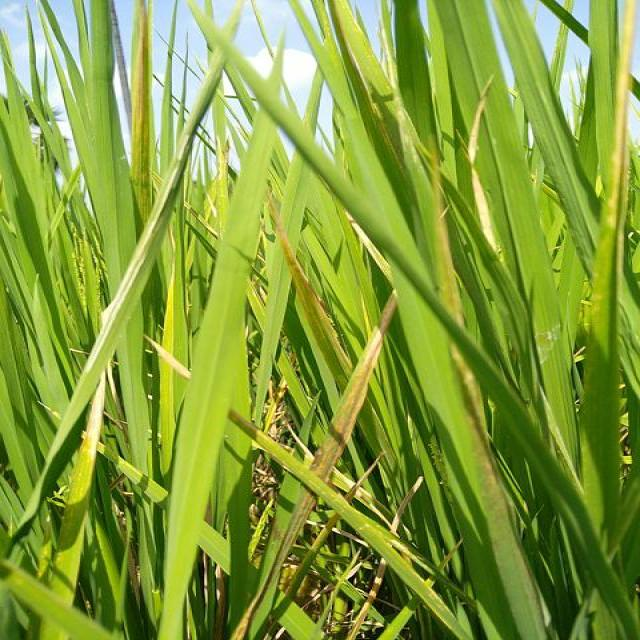Leaf Streak: (44, 147, 189, 471), (229, 411, 423, 577), (309, 294, 397, 483), (268, 197, 348, 390), (331, 0, 424, 163), (231, 489, 316, 639), (452, 347, 519, 537), (596, 114, 631, 338), (429, 176, 468, 324), (127, 0, 151, 184), (345, 561, 388, 639), (468, 119, 495, 243), (296, 513, 337, 583), (145, 337, 192, 380), (389, 477, 423, 535), (89, 378, 104, 472), (357, 491, 393, 521), (345, 471, 371, 504), (335, 467, 355, 491)
